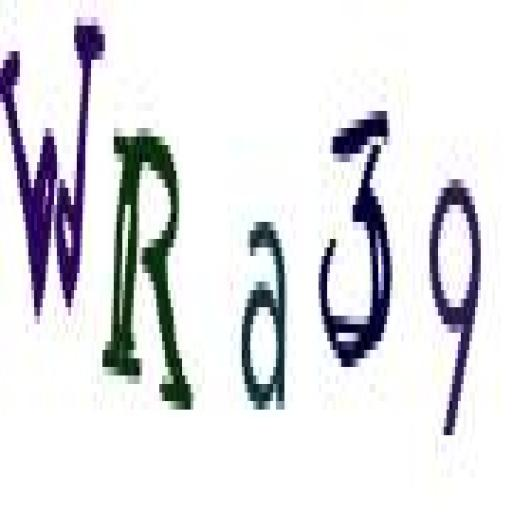3: (319, 105, 397, 372)
9: (422, 181, 486, 444)
R: (104, 109, 196, 426)
W: (0, 30, 102, 318)
a: (239, 212, 294, 428)
